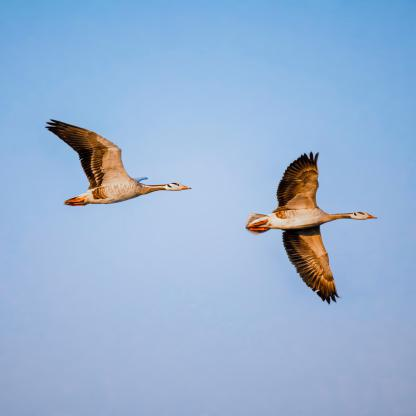bird: (245, 150, 377, 303), (51, 118, 192, 209)
